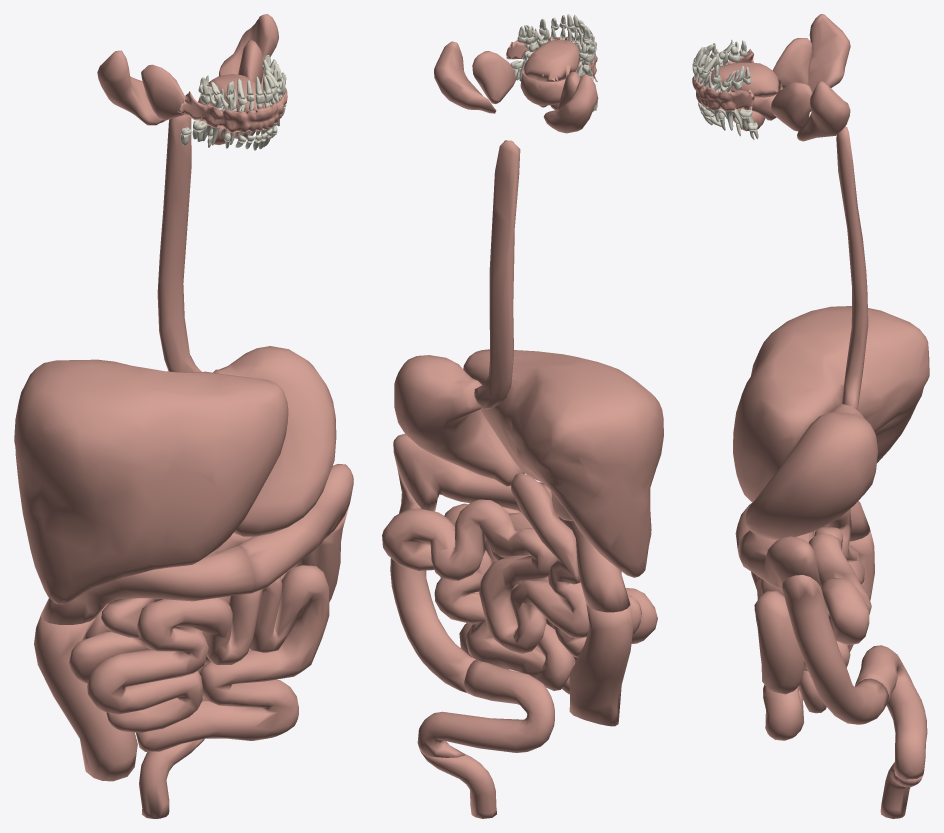
The model's file is pediatric_child_5y_female.digestive.LOD1.glb.
The picture shows the model from 3 angles, left to right: view 1: azimuth 30°, elevation 25°; view 2: azimuth 150°, elevation 25°; view 3: azimuth 270°, elevation 25°; orthographic projection. The views are drawn at different scales.
Visible parts, largest first — view 1: PEDIATRIC.CHILD_5Y.FEMALE.DIGESTIVE.LIVER, PEDIATRIC.CHILD_5Y.FEMALE.DIGESTIVE.SMALL_INTESTINE_WALL, PEDIATRIC.CHILD_5Y.FEMALE.DIGESTIVE.STOMACH_WALL, PEDIATRIC.CHILD_5Y.FEMALE.DIGESTIVE.ASCENDING_COLON_WALL, PEDIATRIC.CHILD_5Y.FEMALE.DIGESTIVE.TRANSVERSE_COLON_WALL.R, PEDIATRIC.CHILD_5Y.FEMALE.DIGESTIVE.OESOPHAGUS_WALL, PEDIATRIC.CHILD_5Y.FEMALE.DIGESTIVE.TRANSVERSE_COLON_WALL.L, PEDIATRIC.CHILD_5Y.FEMALE.DIGESTIVE.SALIVARY_GLANDS.R, PEDIATRIC.CHILD_5Y.FEMALE.DIGESTIVE.RECTUM_WALL, PEDIATRIC.CHILD_5Y.FEMALE.DIGESTIVE.SALIVARY_GLANDS.L, PEDIATRIC.CHILD_5Y.FEMALE.DIGESTIVE.ORAL_MUCOSA_LIP_AND_CHEE, PEDIATRIC.CHILD_5Y.FEMALE.DIGESTIVE.PERMANENT_CEMENTUM (+4 smaller); view 2: PEDIATRIC.CHILD_5Y.FEMALE.DIGESTIVE.SMALL_INTESTINE_WALL, PEDIATRIC.CHILD_5Y.FEMALE.DIGESTIVE.LIVER, PEDIATRIC.CHILD_5Y.FEMALE.DIGESTIVE.STOMACH_WALL, PEDIATRIC.CHILD_5Y.FEMALE.DIGESTIVE.SIGMOID_COLON_WALL, PEDIATRIC.CHILD_5Y.FEMALE.DIGESTIVE.OESOPHAGUS_WALL, PEDIATRIC.CHILD_5Y.FEMALE.DIGESTIVE.ASCENDING_COLON_WALL, PEDIATRIC.CHILD_5Y.FEMALE.DIGESTIVE.DESCENDING_COLON_WALL, PEDIATRIC.CHILD_5Y.FEMALE.DIGESTIVE.TRANSVERSE_COLON_WALL.L, PEDIATRIC.CHILD_5Y.FEMALE.DIGESTIVE.SALIVARY_GLANDS.L, PEDIATRIC.CHILD_5Y.FEMALE.DIGESTIVE.TRANSVERSE_COLON_WALL.R, PEDIATRIC.CHILD_5Y.FEMALE.DIGESTIVE.SALIVARY_GLANDS.R, PEDIATRIC.CHILD_5Y.FEMALE.DIGESTIVE.RECTUM_WALL (+5 smaller); view 3: PEDIATRIC.CHILD_5Y.FEMALE.DIGESTIVE.LIVER, PEDIATRIC.CHILD_5Y.FEMALE.DIGESTIVE.SMALL_INTESTINE_WALL, PEDIATRIC.CHILD_5Y.FEMALE.DIGESTIVE.STOMACH_WALL, PEDIATRIC.CHILD_5Y.FEMALE.DIGESTIVE.DESCENDING_COLON_WALL, PEDIATRIC.CHILD_5Y.FEMALE.DIGESTIVE.SIGMOID_COLON_WALL, PEDIATRIC.CHILD_5Y.FEMALE.DIGESTIVE.OESOPHAGUS_WALL, PEDIATRIC.CHILD_5Y.FEMALE.DIGESTIVE.SALIVARY_GLANDS.R, PEDIATRIC.CHILD_5Y.FEMALE.DIGESTIVE.SALIVARY_GLANDS.L, PEDIATRIC.CHILD_5Y.FEMALE.DIGESTIVE.TRANSVERSE_COLON_WALL.L, PEDIATRIC.CHILD_5Y.FEMALE.DIGESTIVE.ORAL_MUCOSA_MOUTH_FLOOR, PEDIATRIC.CHILD_5Y.FEMALE.DIGESTIVE.PERMANENT_CEMENTUM, PEDIATRIC.CHILD_5Y.FEMALE.DIGESTIVE.ORAL_MUCOSA_LIP_AND_CHEE (+5 smaller).
Boxes of the visible parts, x1,y1,x2,y2 form: PEDIATRIC.CHILD_5Y.FEMALE.DIGESTIVE.LIVER: [14, 359, 288, 604]; PEDIATRIC.CHILD_5Y.FEMALE.DIGESTIVE.SMALL_INTESTINE_WALL: [69, 533, 329, 751]; PEDIATRIC.CHILD_5Y.FEMALE.DIGESTIVE.STOMACH_WALL: [213, 346, 336, 536]; PEDIATRIC.CHILD_5Y.FEMALE.DIGESTIVE.ASCENDING_COLON_WALL: [34, 616, 137, 781]; PEDIATRIC.CHILD_5Y.FEMALE.DIGESTIVE.TRANSVERSE_COLON_WALL.R: [40, 546, 254, 624]; PEDIATRIC.CHILD_5Y.FEMALE.DIGESTIVE.OESOPHAGUS_WALL: [157, 114, 201, 372]; PEDIATRIC.CHILD_5Y.FEMALE.DIGESTIVE.TRANSVERSE_COLON_WALL.L: [236, 464, 353, 593]; PEDIATRIC.CHILD_5Y.FEMALE.DIGESTIVE.SALIVARY_GLANDS.R: [97, 50, 236, 145]; PEDIATRIC.CHILD_5Y.FEMALE.DIGESTIVE.RECTUM_WALL: [139, 739, 204, 818]; PEDIATRIC.CHILD_5Y.FEMALE.DIGESTIVE.SALIVARY_GLANDS.L: [219, 14, 278, 138]; PEDIATRIC.CHILD_5Y.FEMALE.DIGESTIVE.ORAL_MUCOSA_LIP_AND_CHEE: [178, 87, 287, 133]; PEDIATRIC.CHILD_5Y.FEMALE.DIGESTIVE.PERMANENT_CEMENTUM: [181, 55, 285, 150]; PEDIATRIC.CHILD_5Y.FEMALE.DIGESTIVE.SMALL_INTESTINE_WALL: [382, 472, 657, 694]; PEDIATRIC.CHILD_5Y.FEMALE.DIGESTIVE.LIVER: [463, 349, 663, 577]; PEDIATRIC.CHILD_5Y.FEMALE.DIGESTIVE.STOMACH_WALL: [394, 355, 524, 486]; PEDIATRIC.CHILD_5Y.FEMALE.DIGESTIVE.SIGMOID_COLON_WALL: [417, 659, 554, 757]; PEDIATRIC.CHILD_5Y.FEMALE.DIGESTIVE.OESOPHAGUS_WALL: [474, 140, 520, 409]; PEDIATRIC.CHILD_5Y.FEMALE.DIGESTIVE.ASCENDING_COLON_WALL: [569, 601, 633, 726]; PEDIATRIC.CHILD_5Y.FEMALE.DIGESTIVE.DESCENDING_COLON_WALL: [390, 468, 475, 692]; PEDIATRIC.CHILD_5Y.FEMALE.DIGESTIVE.TRANSVERSE_COLON_WALL.L: [393, 433, 521, 512]; PEDIATRIC.CHILD_5Y.FEMALE.DIGESTIVE.SALIVARY_GLANDS.L: [434, 41, 546, 113]; PEDIATRIC.CHILD_5Y.FEMALE.DIGESTIVE.TRANSVERSE_COLON_WALL.R: [539, 482, 630, 612]; PEDIATRIC.CHILD_5Y.FEMALE.DIGESTIVE.SALIVARY_GLANDS.R: [543, 71, 597, 133]; PEDIATRIC.CHILD_5Y.FEMALE.DIGESTIVE.RECTUM_WALL: [420, 751, 496, 818]; PEDIATRIC.CHILD_5Y.FEMALE.DIGESTIVE.LIVER: [733, 306, 929, 502]; PEDIATRIC.CHILD_5Y.FEMALE.DIGESTIVE.SMALL_INTESTINE_WALL: [751, 509, 871, 740]; PEDIATRIC.CHILD_5Y.FEMALE.DIGESTIVE.STOMACH_WALL: [745, 403, 877, 539]; PEDIATRIC.CHILD_5Y.FEMALE.DIGESTIVE.DESCENDING_COLON_WALL: [782, 575, 888, 724]; PEDIATRIC.CHILD_5Y.FEMALE.DIGESTIVE.SIGMOID_COLON_WALL: [855, 645, 927, 779]; PEDIATRIC.CHILD_5Y.FEMALE.DIGESTIVE.OESOPHAGUS_WALL: [836, 126, 868, 409]; PEDIATRIC.CHILD_5Y.FEMALE.DIGESTIVE.SALIVARY_GLANDS.R: [772, 14, 850, 92]; PEDIATRIC.CHILD_5Y.FEMALE.DIGESTIVE.SALIVARY_GLANDS.L: [732, 81, 850, 141]; PEDIATRIC.CHILD_5Y.FEMALE.DIGESTIVE.TRANSVERSE_COLON_WALL.L: [737, 530, 821, 588]; PEDIATRIC.CHILD_5Y.FEMALE.DIGESTIVE.ORAL_MUCOSA_MOUTH_FLOOR: [709, 62, 782, 97]; PEDIATRIC.CHILD_5Y.FEMALE.DIGESTIVE.PERMANENT_CEMENTUM: [693, 39, 758, 139]; PEDIATRIC.CHILD_5Y.FEMALE.DIGESTIVE.ORAL_MUCOSA_LIP_AND_CHEE: [692, 49, 754, 111].
Bounding box in the file's own units: 0.1879 × 0.4791 × 0.1346.
